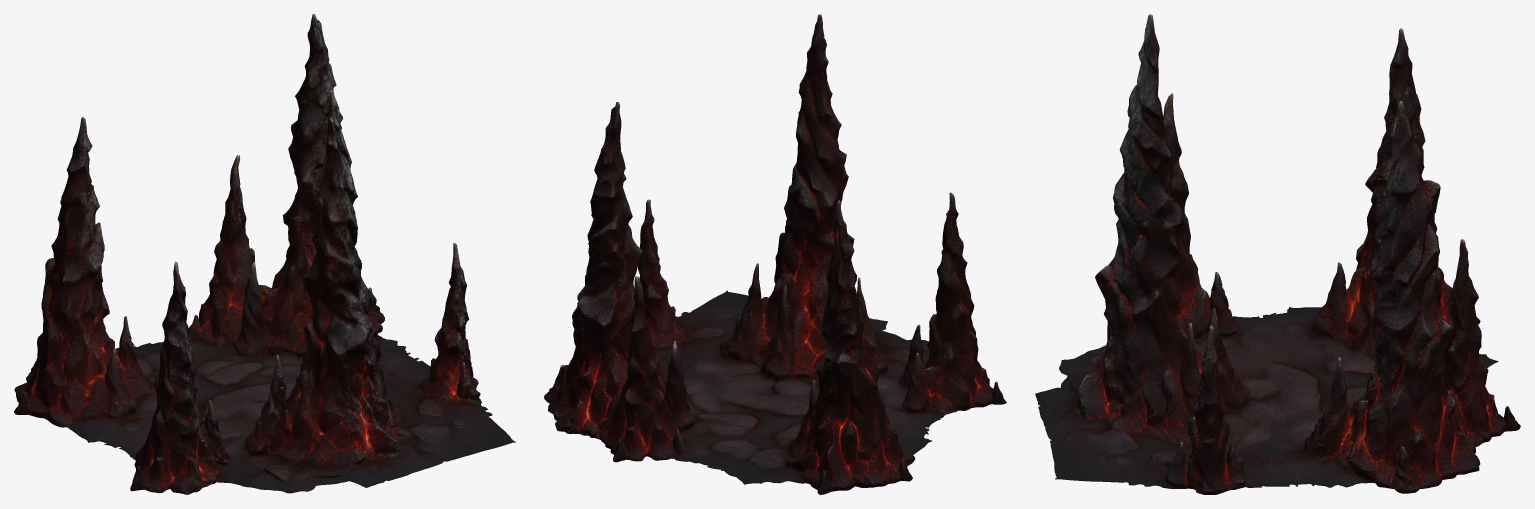
File: selected.glb
3 renders of one model, left to right at view 1: azimuth 30°, elevation 25°; view 2: azimuth 150°, elevation 25°; view 3: azimuth 270°, elevation 25°, orthographic. The views are drawn at different scales.
Parts seen in each view (by area): view 1: tripo_node_5810caae-26d5-432d-971f-b0f4e43bbcec; view 2: tripo_node_5810caae-26d5-432d-971f-b0f4e43bbcec; view 3: tripo_node_5810caae-26d5-432d-971f-b0f4e43bbcec.
Part boxes in pixels (<box>): tripo_node_5810caae-26d5-432d-971f-b0f4e43bbcec: <box>14,14,515,494</box>; tripo_node_5810caae-26d5-432d-971f-b0f4e43bbcec: <box>544,14,1006,494</box>; tripo_node_5810caae-26d5-432d-971f-b0f4e43bbcec: <box>1035,14,1520,494</box>.
Bounding box in the file's own units: 0.9872 × 0.8865 × 1.
Materials: 1 (1 with a texture image).
